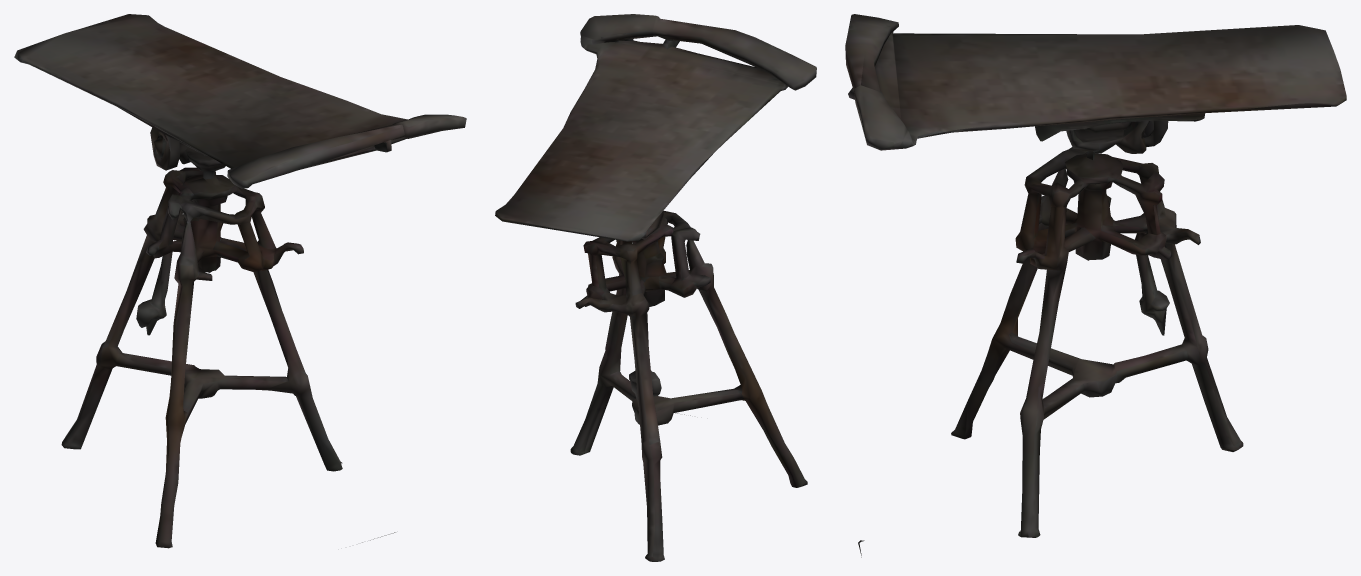
Rendered from simple-iron-operating-table-v001.glb.
3 views of the same model, side by side, from view 1: azimuth 30°, elevation 25°; view 2: azimuth 150°, elevation 25°; view 3: azimuth 270°, elevation 25° (orthographic). The views are drawn at different scales.
Visible parts, largest first — view 1: simple-iron-operating-table; view 2: simple-iron-operating-table; view 3: simple-iron-operating-table.
Boxes of the visible parts, x1=… form: simple-iron-operating-table: x1=14, y1=14, x2=466, y2=548; simple-iron-operating-table: x1=495, y1=14, x2=816, y2=561; simple-iron-operating-table: x1=845, y1=14, x2=1346, y2=557.
Bounding box in the file's own units: 0.632 × 0.9237 × 0.9127.
Materials: 1 (1 with a texture image).
